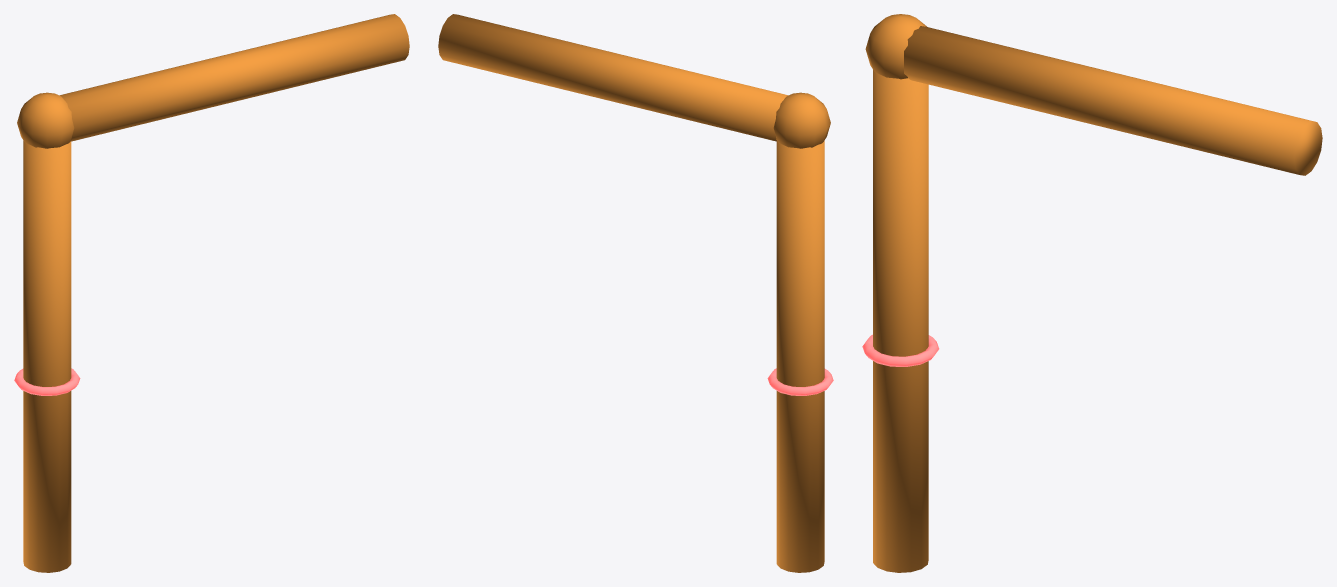
File: pipe_run_corner_manifold.glb
The picture shows the model from 3 angles, left to right: view 1: azimuth 30°, elevation 25°; view 2: azimuth 150°, elevation 25°; view 3: azimuth 330°, elevation 25°; orthographic projection. The views are drawn at different scales.
Visible parts, largest first — view 1: GD_pipe_run_corner_manifold__m0, GD_pipe_run_corner_manifold__m1; view 2: GD_pipe_run_corner_manifold__m0, GD_pipe_run_corner_manifold__m1; view 3: GD_pipe_run_corner_manifold__m0, GD_pipe_run_corner_manifold__m1.
Boxes of the visible parts, left/top/right/bottom form: GD_pipe_run_corner_manifold__m0: left=17, top=14, right=409, bottom=572; GD_pipe_run_corner_manifold__m1: left=14, top=368, right=80, bottom=395; GD_pipe_run_corner_manifold__m0: left=438, top=14, right=830, bottom=572; GD_pipe_run_corner_manifold__m1: left=767, top=368, right=833, bottom=395; GD_pipe_run_corner_manifold__m0: left=865, top=14, right=1322, bottom=572; GD_pipe_run_corner_manifold__m1: left=862, top=334, right=939, bottom=366.
Size of the model in its own units: 1.08 by 1.28 by 0.1599.
